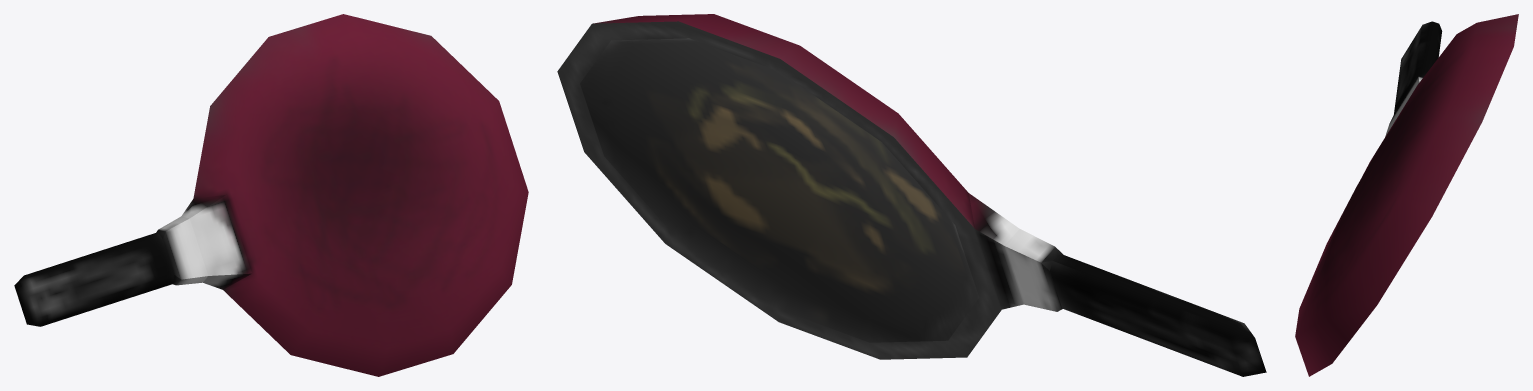
The model's file is C_FryingPanOil.fbx.
3 views of the same model, side by side, from view 1: azimuth 30°, elevation 25°; view 2: azimuth 150°, elevation 25°; view 3: azimuth 270°, elevation 25° (orthographic). The views are drawn at different scales.
Visible parts, largest first — view 1: StirFry.002; view 2: StirFry.002; view 3: StirFry.002.
Boxes of the visible parts, <box> form: StirFry.002: <box>14,14,528,376</box>; StirFry.002: <box>557,14,1266,376</box>; StirFry.002: <box>1295,14,1518,376</box>.
Size of the model in its own units: 65.29 by 36.43 by 22.61.
